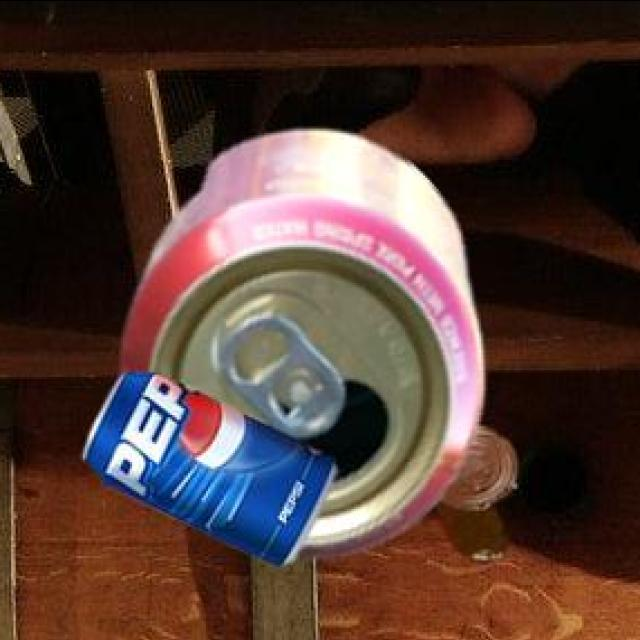logam: (124, 126, 487, 554), (86, 368, 339, 561), (437, 422, 520, 558)
